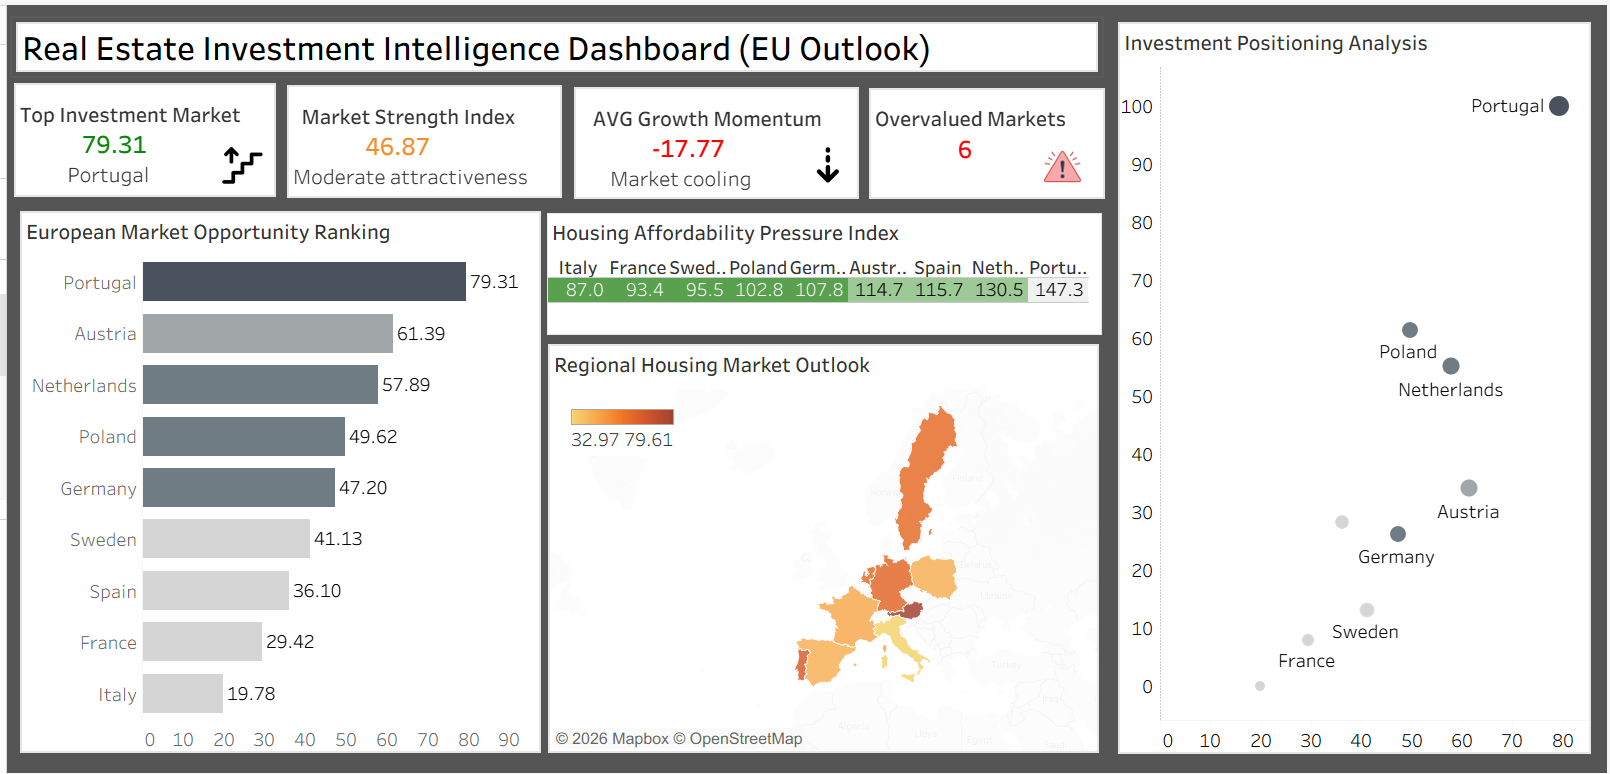

The page's visual inventory and layout, read from the dashboard file:
{"tool":"tableau","page":{"name":"Invesment Intelligence- European Housing Dashboard ","canvas":[1600,768],"ordinal":0},"visuals":[{"type":"text","box":[5,13,1090,58]},{"type":"worksheet","title":"Investment Positioning","mark":"Circle","rows":["future_growth_score"],"cols":["final_score"],"box":[1107,13,481,740]},{"type":"worksheet","title":"Top Investment Market","mark":"Automatic","box":[3,74,270,122]},{"type":"worksheet","title":"Average Market Score","mark":"Automatic","box":[276,76,283,121]},{"type":"worksheet","title":"Growth momentum","mark":"Automatic","box":[563,78,293,120]},{"type":"worksheet","title":"Overvalued Markets","mark":"Automatic","box":[858,79,244,119]},{"type":"image","param":"Image/arrow-narrow-down-dashed.png","box":[794,132,53,55]},{"type":"image","param":"Image/stairs-up.png","box":[209,134,53,52]},{"type":"image","param":"Image/icons8-high-risk-40.png","box":[1036,142,39,41]},{"type":"worksheet","title":"Market Ranking by Final Score","mark":"Automatic","rows":["country"],"cols":["final_score"],"box":[9,202,529,550]},{"type":"worksheet","title":"Heatmap – Housing Affordability","mark":"Square","cols":["country"],"box":[536,204,563,130]},{"type":"worksheet","title":"Map Investment Overview","mark":"Multipolygon","box":[537,335,559,417]},{"type":"legend","title":"Map Investment Overview","param":"[federated.0qozdbl0b7m77219cuwaj1gs99c1].[sum:investment_score:qk]","box":[559.9,374,111.3,77]}]}

Visuals, with their boxes in screenshot pixels (x1, y1, x2, y2), scaled from the page's 1600x768 canvas onto the 1610x774 screenshot:
text: select_region(5, 13, 1102, 72)
"Investment Positioning" worksheet (Circle marks): select_region(1114, 13, 1598, 759)
"Top Investment Market" worksheet: select_region(3, 75, 275, 198)
"Average Market Score" worksheet: select_region(278, 77, 562, 199)
"Growth momentum" worksheet: select_region(567, 79, 861, 200)
"Overvalued Markets" worksheet: select_region(863, 80, 1109, 200)
image: select_region(799, 133, 852, 188)
image: select_region(210, 135, 264, 187)
image: select_region(1042, 143, 1082, 184)
"Market Ranking by Final Score" worksheet: select_region(9, 204, 541, 758)
"Heatmap – Housing Affordability" worksheet (Square marks): select_region(539, 206, 1106, 337)
"Map Investment Overview" worksheet (Multipolygon marks): select_region(540, 338, 1103, 758)
"Map Investment Overview" legend: select_region(563, 377, 675, 455)
